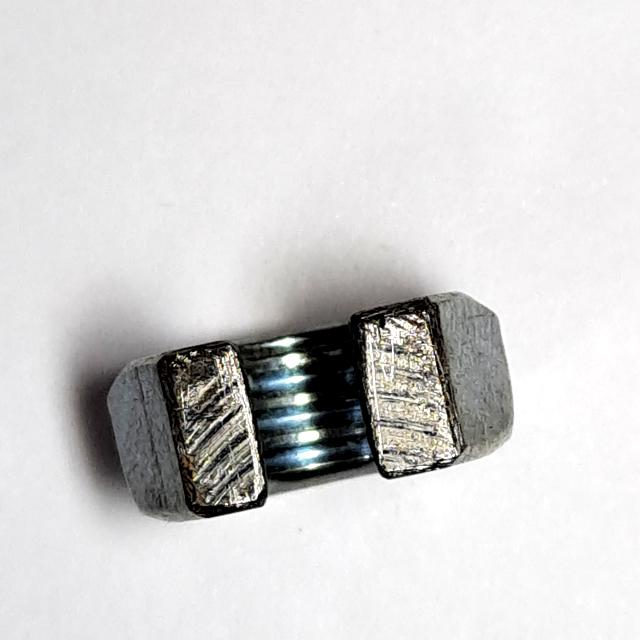Side-Fracture: (94, 282, 522, 533)
